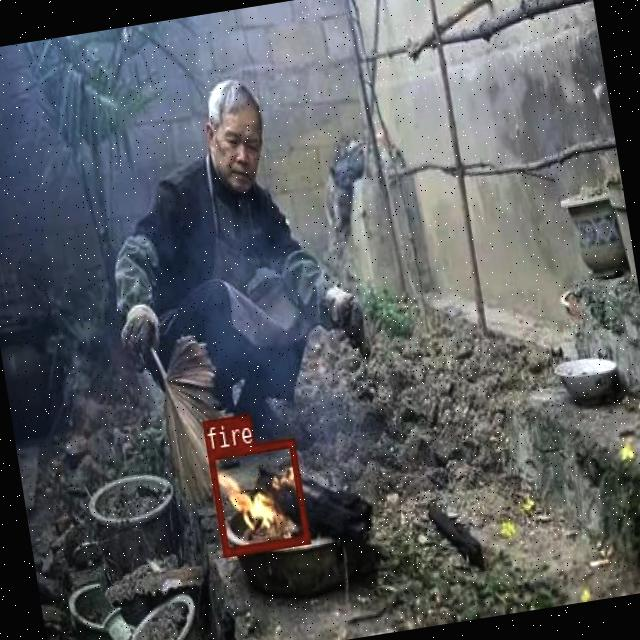fire: (206, 437, 310, 556)
